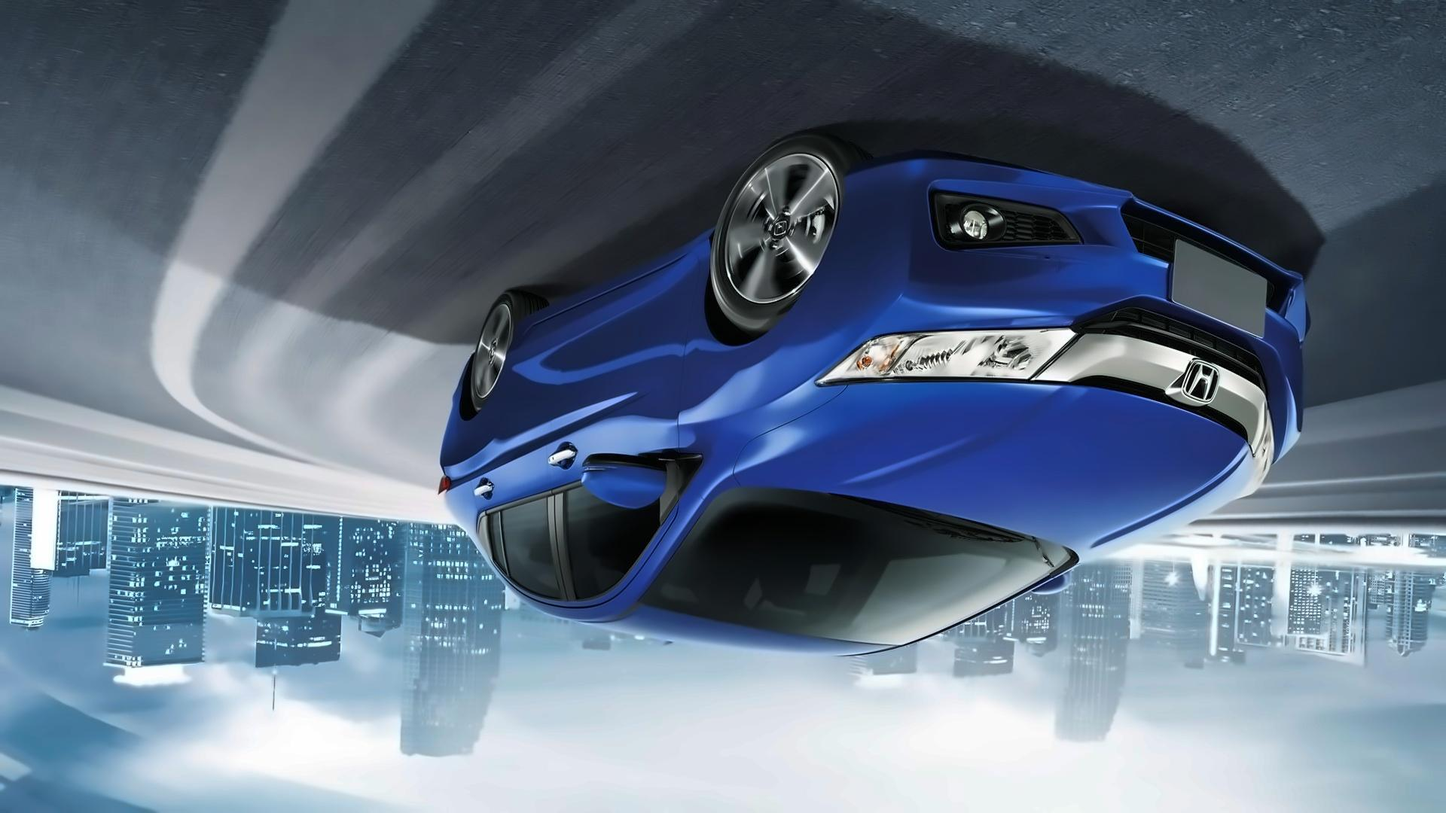Car hood: (729, 374, 1264, 573)
Fender - -F-L-: (667, 222, 855, 502)
Fender - -R-L-: (427, 368, 503, 570)
Front bumper: (810, 142, 1320, 476)
Headlight - -L-: (816, 329, 1079, 385)
Headlight - -R-: (1248, 408, 1286, 489)
Passenger-s door - -F-L-: (542, 217, 715, 638)
Passenger-s door - -R-L-: (472, 252, 590, 638)
Side bumper - -L-: (516, 205, 732, 382)
Side mirror - -L-: (581, 447, 694, 514)
